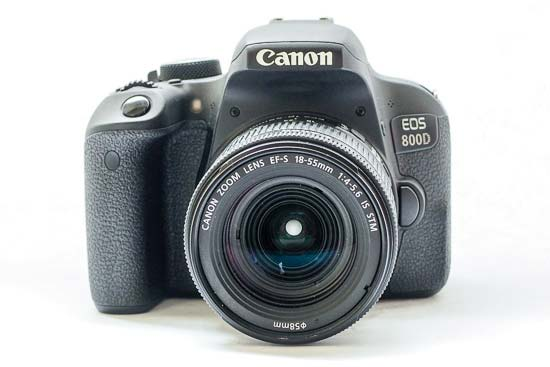kamera: (74, 13, 457, 354)
